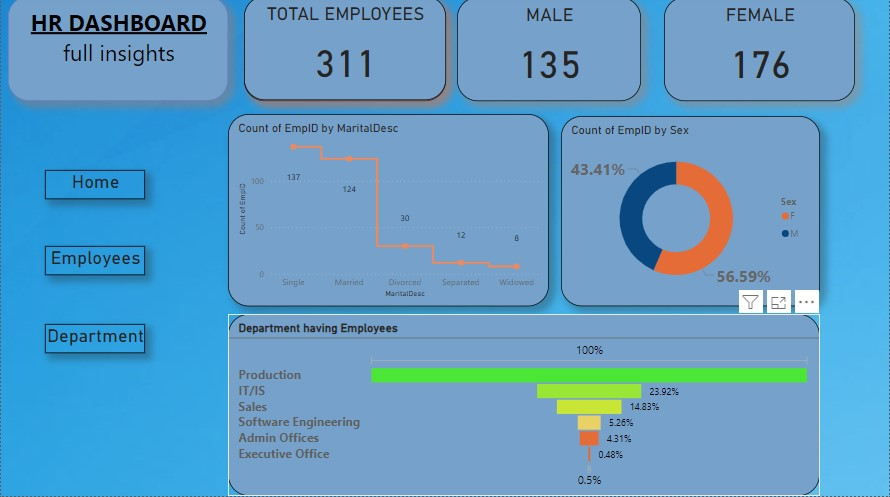

What the dashboard file says about the page in this screenshot:
{"tool":"powerbi","page":{"name":"Home","canvas":[1280,720],"ordinal":0},"visuals":[{"type":"textbox","box":[10.1,0,317.5,151.2],"z":0},{"type":"card","title":"TOTAL EMPLOYEES","fields":{"Values":["CountNonNull(Sheet1.EmpID)"]},"box":[349.4,1.7,290.6,149.5],"z":1000},{"type":"card","title":"MALE","fields":{"Values":["Sum(Sheet1.male)"]},"box":[656.8,1.7,265.4,149.5],"z":2000},{"type":"card","title":"FEMALE","fields":{"Values":["Sum(Sheet1.female)"]},"box":[954.1,1.7,275.5,149.5],"z":3000},{"type":"lineChart","fields":{"Y":["CountNonNull(Sheet1.EmpID)"],"Category":["Sheet1.MaritalDesc"]},"box":[327.6,169.7,461.9,277.2],"z":4000},{"type":"card","title":"TOTAL EMPLOYEES","fields":{"Values":["CountNonNull(Sheet1.EmpID)"]},"box":[349.4,0,290.6,149.5],"z":5000},{"type":"donutChart","fields":{"Category":["Sheet1.Sex"],"Y":["CountNonNull(Sheet1.EmpID)"]},"box":[806.3,173,372.9,273.8],"z":6000},{"type":"funnel","title":" Department having Employees","fields":{"Category":["Sheet1.Department"],"Y":["CountNonNull(Sheet1.EmpID)"]},"box":[327.6,458.6,851.7,262],"z":7000},{"type":"actionButton","title":"Home","box":[63.8,250.3,144.5,42],"z":8000},{"type":"actionButton","title":"Employees","box":[64,360,144,42],"z":9000},{"type":"actionButton","title":"Departments","box":[64,472,144,42],"z":10000}]}

Visuals, with their boxes in screenshot pixels (x1, y1, x2, y2), scaled from the page's 1280x720 canvas onto the 890x497 screenshot:
textbox: l=7, t=0, r=228, b=104
"TOTAL EMPLOYEES" card: l=243, t=1, r=445, b=104
"MALE" card: l=457, t=1, r=641, b=104
"FEMALE" card: l=663, t=1, r=855, b=104
lineChart - CountNonNull(Sheet1.EmpID) x Sheet1.MaritalDesc: l=228, t=117, r=549, b=308
"TOTAL EMPLOYEES" card: l=243, t=0, r=445, b=103
donutChart - Sheet1.Sex x CountNonNull(Sheet1.EmpID): l=561, t=119, r=820, b=308
" Department having Employees" funnel: l=228, t=317, r=820, b=496
"Home" actionButton: l=44, t=173, r=145, b=202
"Employees" actionButton: l=44, t=248, r=145, b=277
"Departments" actionButton: l=44, t=326, r=145, b=355
